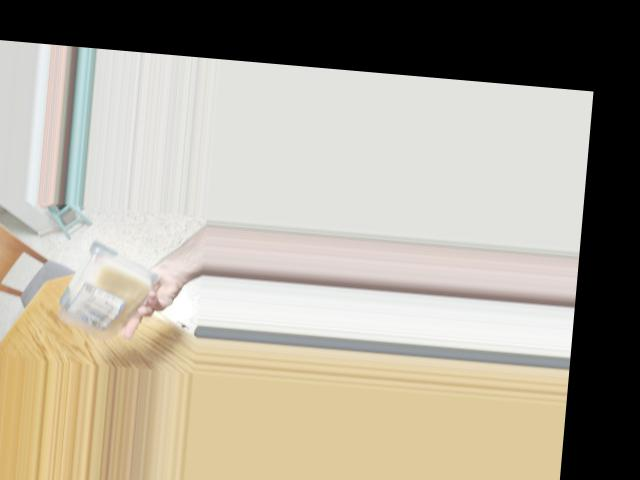cheese: (57, 238, 138, 335)
